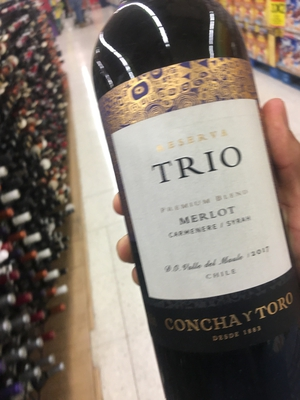trio merlot: (88, 8, 300, 387)
